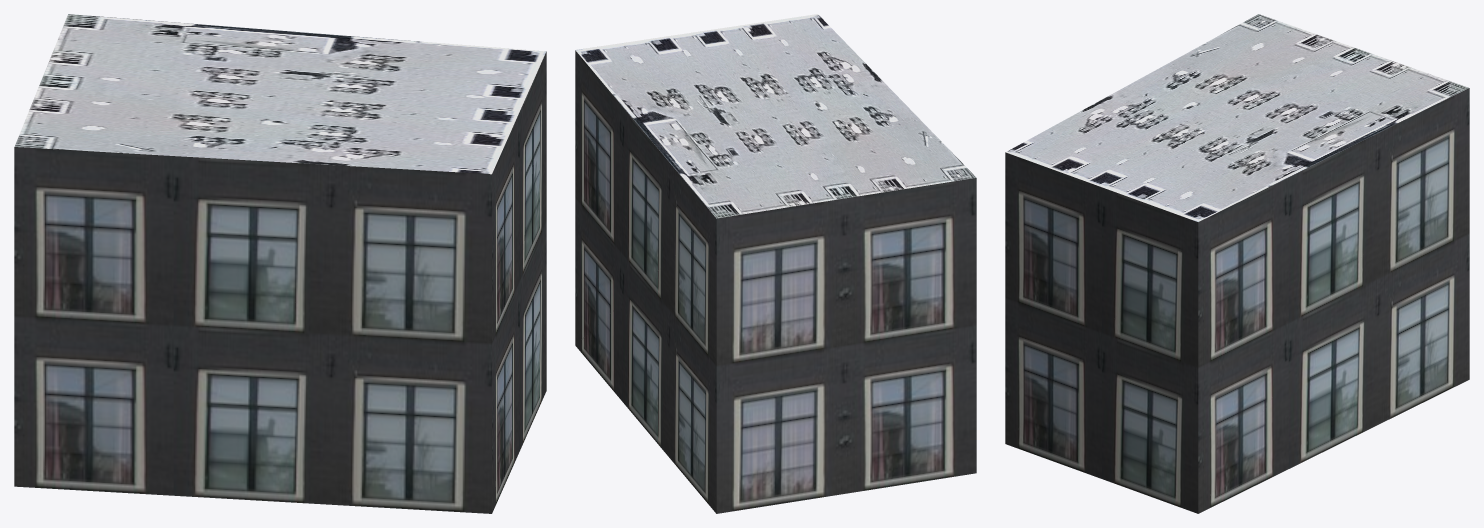
The model's file is ResTex__1769.fbx.
3 renders of one model, left to right at view 1: azimuth 30°, elevation 25°; view 2: azimuth 150°, elevation 25°; view 3: azimuth 270°, elevation 25°, orthographic. The views are drawn at different scales.
Parts seen in each view (by area): view 1: CityEngineMaterial_22_m, CityEngineMaterial_8_m; view 2: CityEngineMaterial_22_m, CityEngineMaterial_8_m; view 3: CityEngineMaterial_22_m, CityEngineMaterial_8_m.
Part boxes in pixels (x1,y1,x2,y2): CityEngineMaterial_22_m: (14, 51, 546, 513); CityEngineMaterial_8_m: (14, 14, 546, 174); CityEngineMaterial_22_m: (575, 50, 976, 513); CityEngineMaterial_8_m: (575, 14, 976, 218); CityEngineMaterial_22_m: (1005, 88, 1469, 513); CityEngineMaterial_8_m: (1006, 14, 1468, 221).
Bounding box in the file's own units: 9.18 × 6 × 8.65.
Materials: 2 (2 with a texture image).
